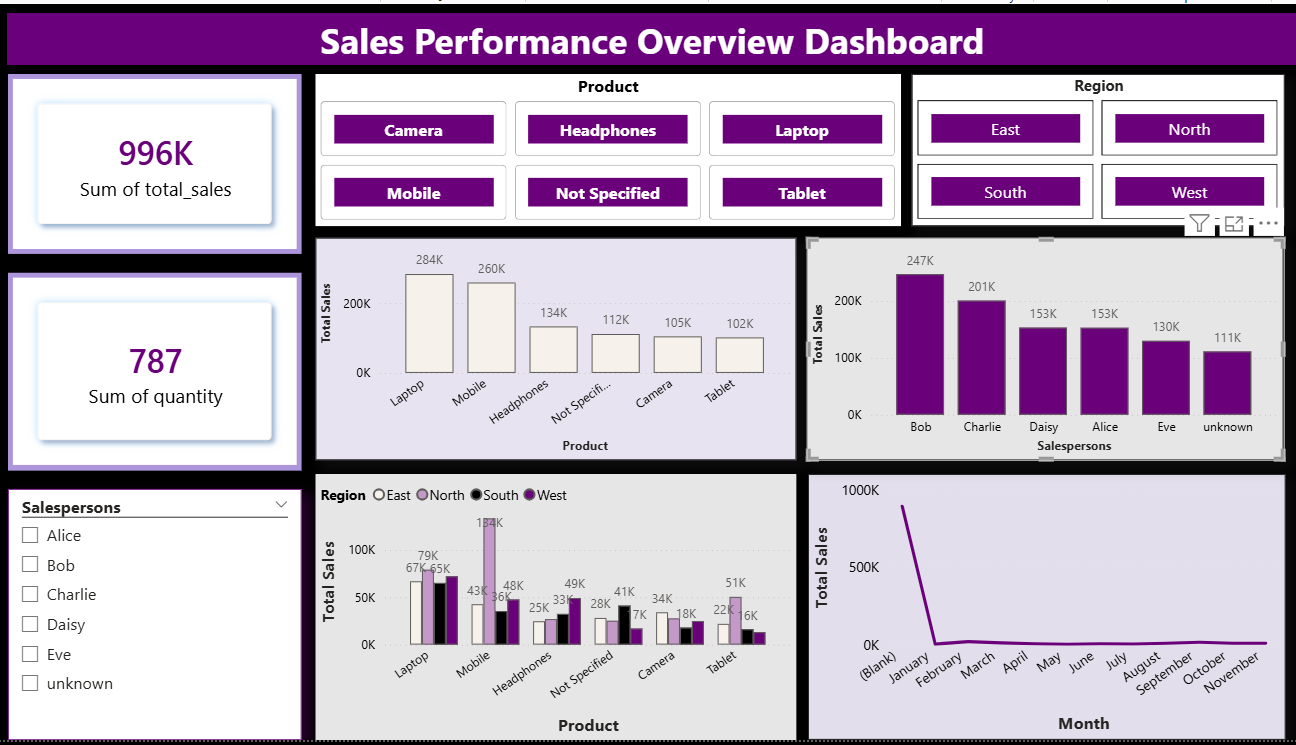

What the dashboard file says about the page in this screenshot:
{"tool":"powerbi","page":{"name":"Page 1","canvas":[1280,720],"ordinal":0},"visuals":[{"type":"shape","box":[0,0,1280.3,68.6],"z":0},{"type":"slicer","fields":{"Values":["cleaned_dataset.salesperson"]},"box":[9.8,474.5,287.4,245.8],"z":1000},{"type":"advancedSlicerVisual","title":"Region","fields":{"Values":["cleaned_dataset.region"]},"box":[893.4,68.8,364.8,148.7],"z":2000},{"type":"advancedSlicerVisual","title":"Product","fields":{"Values":["cleaned_dataset.product"]},"box":[311.1,68.8,572.7,148.7],"z":3000},{"type":"cardVisual","fields":{"Data":["cleaned_dataset.total_sales"]},"box":[9.8,68.5,287.4,176.1],"z":4000},{"type":"cardVisual","fields":{"Data":["cleaned_dataset.quantity"]},"box":[9.8,262.9,287.4,193.2],"z":5000},{"type":"clusteredColumnChart","fields":{"Category":["cleaned_dataset.product"],"Y":["cleaned_dataset.total_sales"]},"box":[310.6,228.7,470.8,217.7],"z":6000},{"type":"clusteredColumnChart","fields":{"Category":["cleaned_dataset.salesperson"],"Y":["cleaned_dataset.total_sales"]},"box":[791.6,228.5,466.7,217.5],"z":7000},{"type":"clusteredColumnChart","fields":{"Category":["cleaned_dataset.product"],"Series":["cleaned_dataset.region"],"Y":["cleaned_dataset.total_sales"]},"box":[310.6,459.8,470.8,260.5],"z":8000},{"type":"lineChart","fields":{"Category":["cleaned_dataset.sale_date.Variation.Date Hierarchy.Month"],"Y":["cleaned_dataset.total_sales"]},"box":[792,460,467,260],"z":8001}]}

Visuals, with their boxes in screenshot pixels (x1, y1, x2, y2), scaled from the page's 1280x720 canvas onto the 1296x745 screenshot:
shape: x1=0, y1=0, x2=1295, y2=71
slicer - cleaned_dataset.salesperson: x1=10, y1=491, x2=301, y2=744
"Region" advancedSlicerVisual: x1=905, y1=71, x2=1274, y2=225
"Product" advancedSlicerVisual: x1=315, y1=71, x2=895, y2=225
cardVisual - cleaned_dataset.total_sales: x1=10, y1=71, x2=301, y2=253
cardVisual - cleaned_dataset.quantity: x1=10, y1=272, x2=301, y2=472
clusteredColumnChart - cleaned_dataset.product x cleaned_dataset.total_sales: x1=314, y1=237, x2=791, y2=462
clusteredColumnChart - cleaned_dataset.salesperson x cleaned_dataset.total_sales: x1=801, y1=236, x2=1274, y2=461
clusteredColumnChart - cleaned_dataset.product x cleaned_dataset.region: x1=314, y1=476, x2=791, y2=744
lineChart - cleaned_dataset.sale_date.Variation.Date Hierarchy.Month x cleaned_dataset.total_sales: x1=802, y1=476, x2=1275, y2=744
